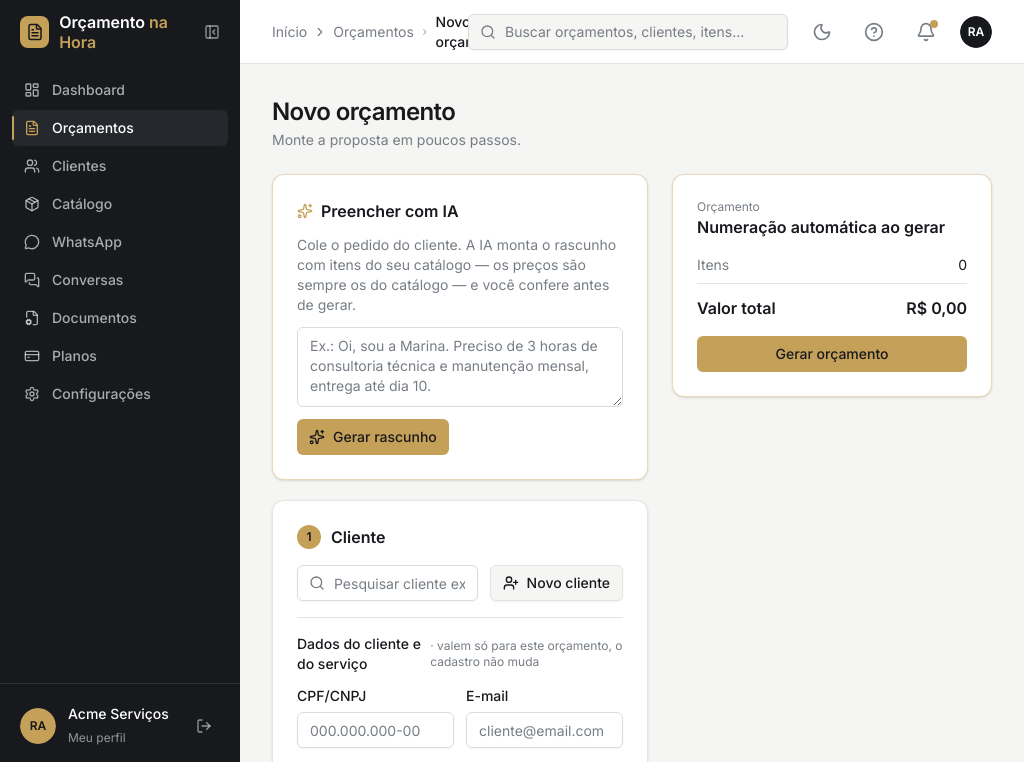
Test: gerador de orçamento › exige cliente e itens
Click the button "Gerar orçamento": (832, 354) [697,336,967,372]
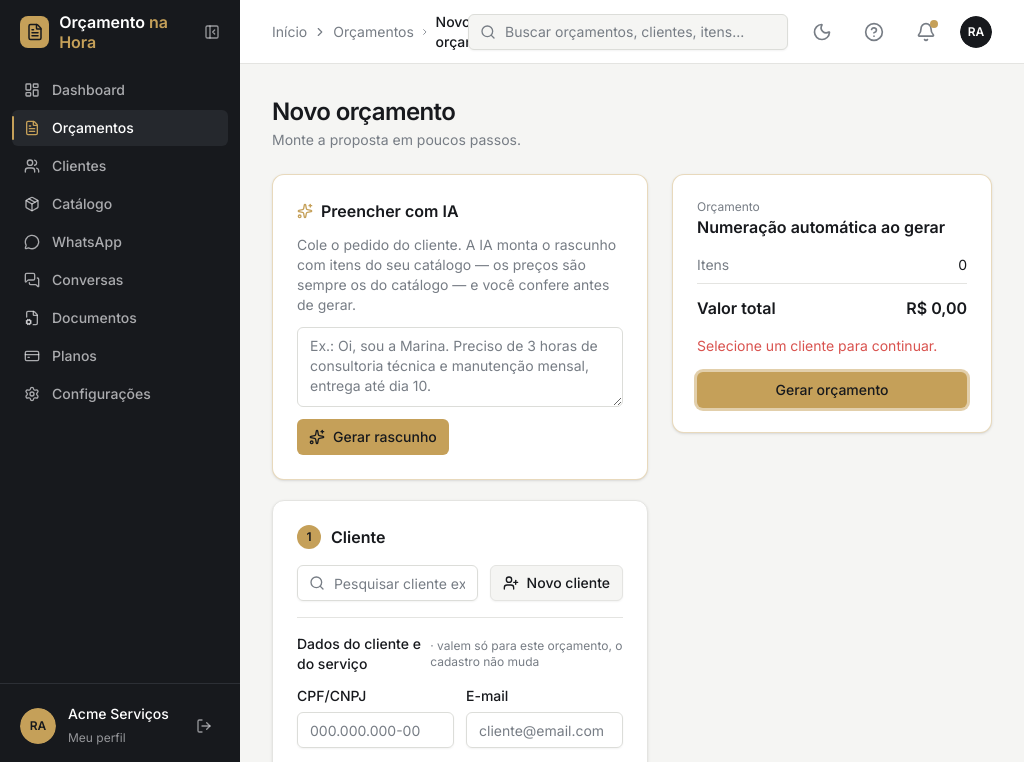
Result: the message shows "Selecione um cliente" at [697,337,937,354]
